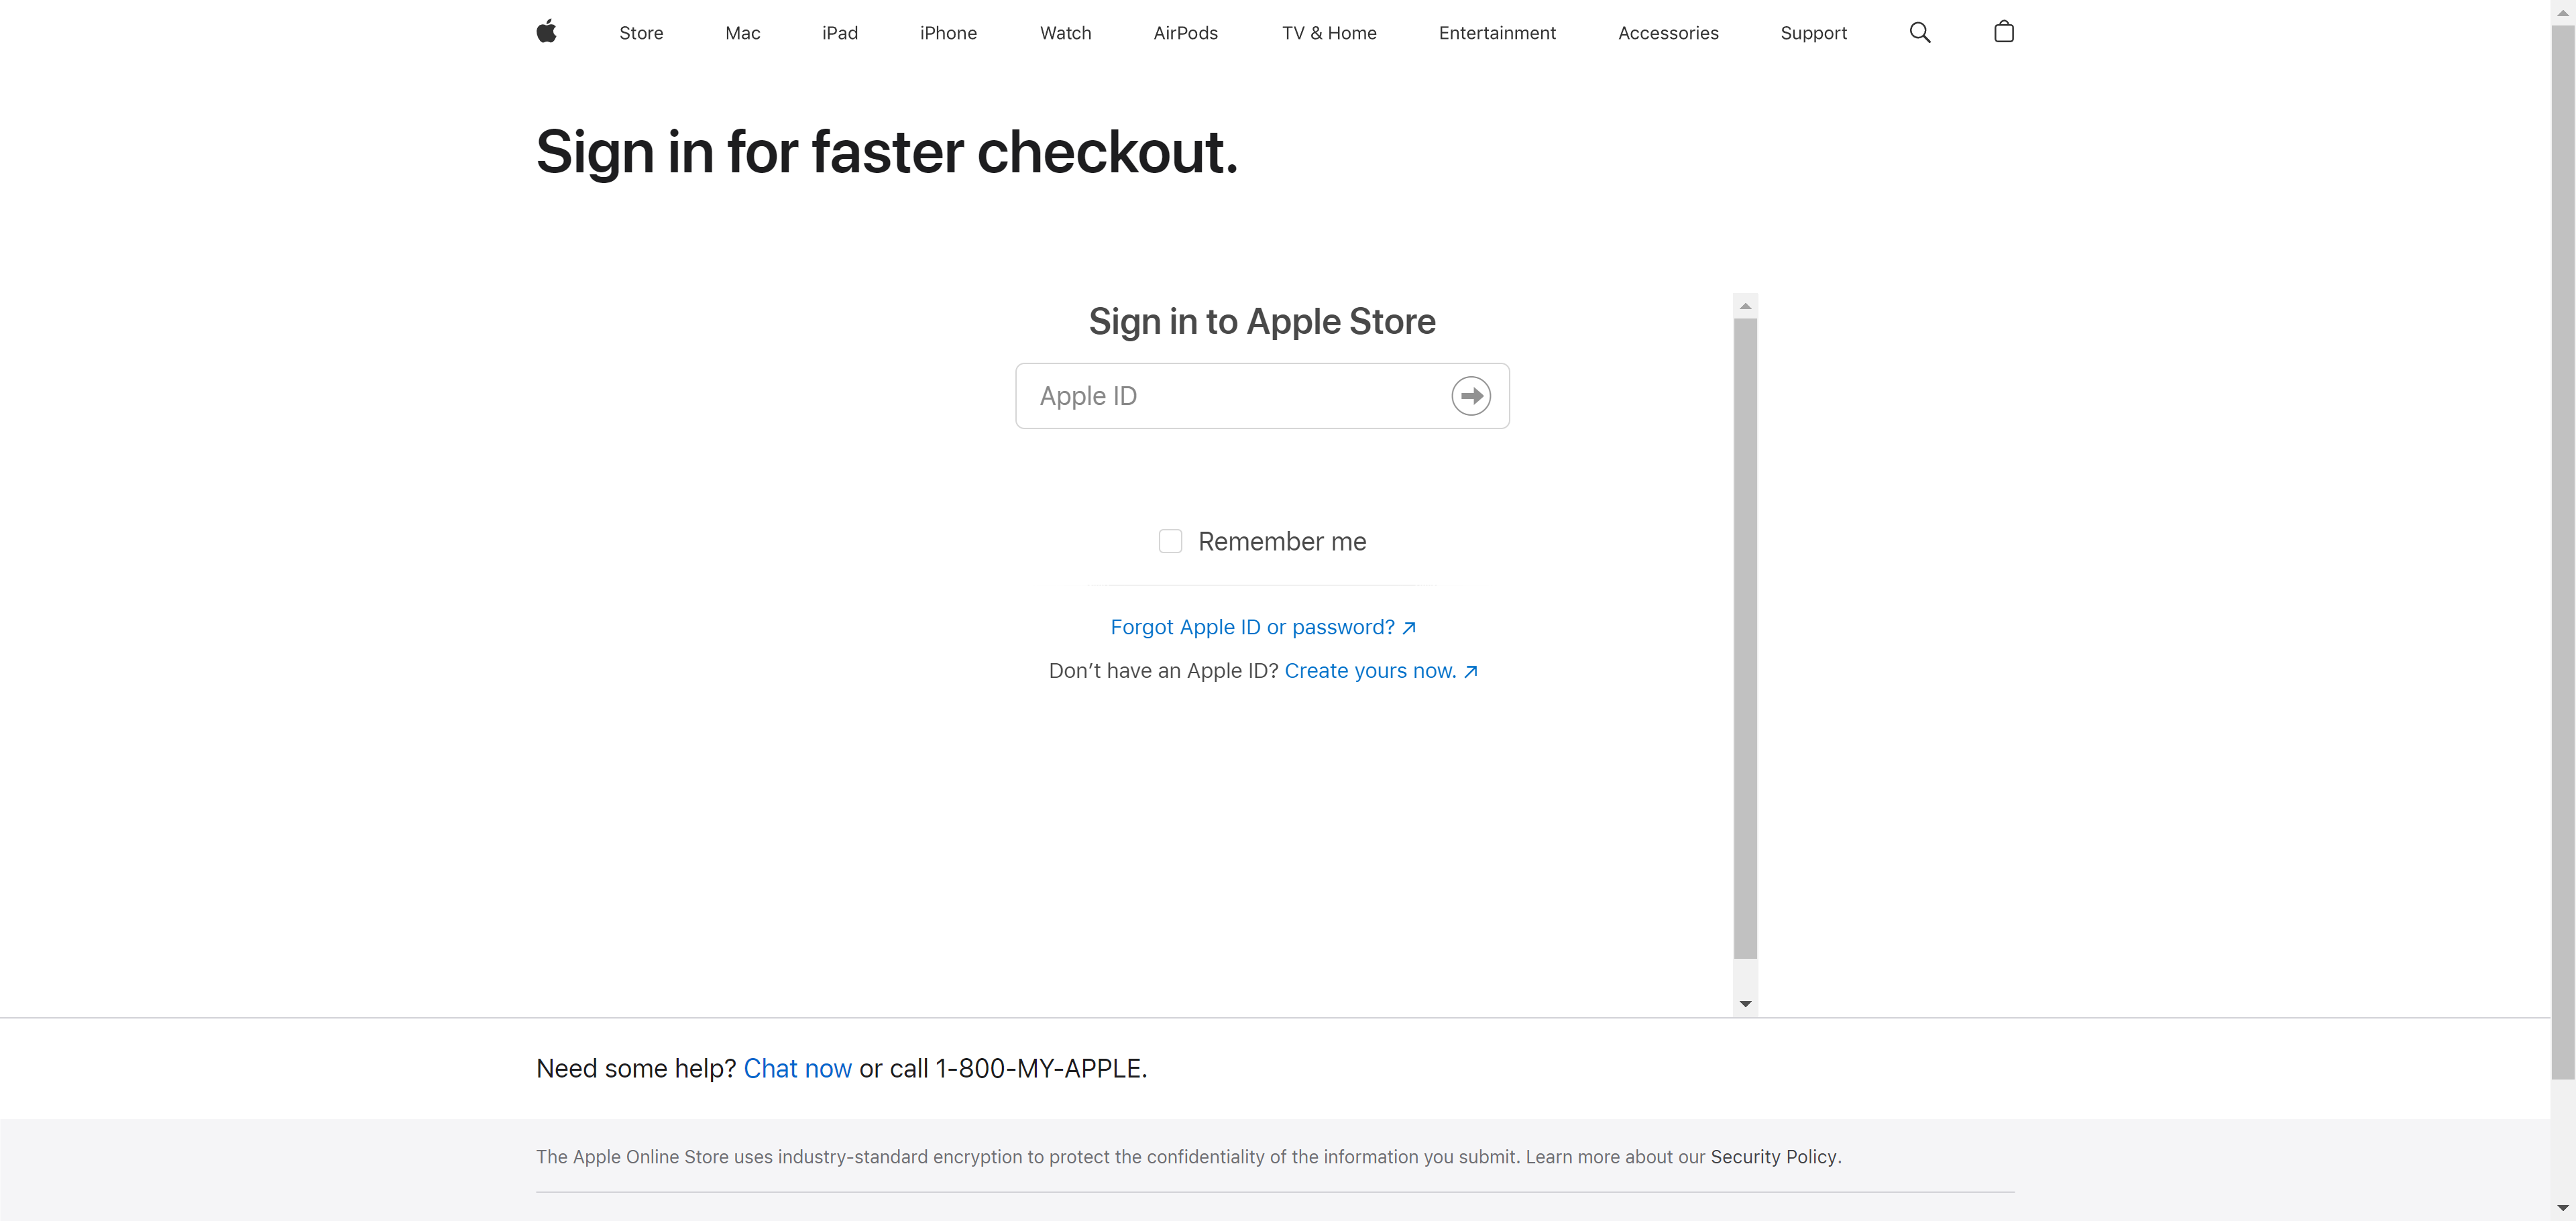login_button: (1451, 376, 1492, 416)
login_form: (1010, 357, 1516, 434)
